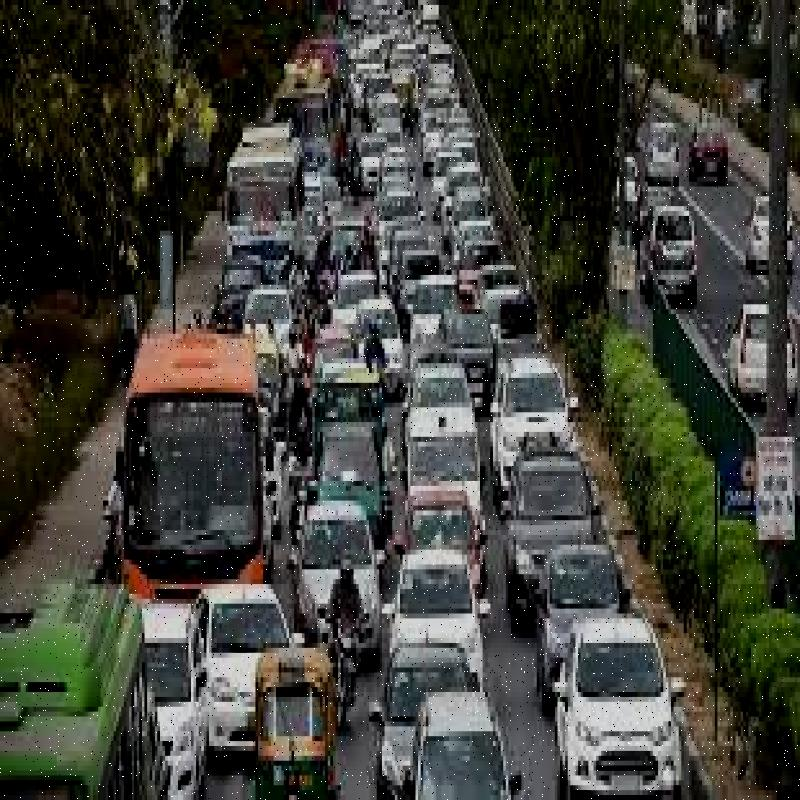bus: (119, 330, 265, 591), (212, 117, 308, 263)
car: (550, 613, 674, 800), (507, 440, 596, 627), (400, 669, 527, 800), (370, 641, 473, 785), (200, 575, 281, 739), (134, 592, 196, 779), (544, 532, 619, 684), (497, 351, 571, 496), (395, 544, 484, 662), (302, 500, 372, 648), (393, 404, 478, 518), (306, 412, 378, 544), (438, 297, 497, 386), (400, 240, 435, 322), (455, 207, 494, 269)
